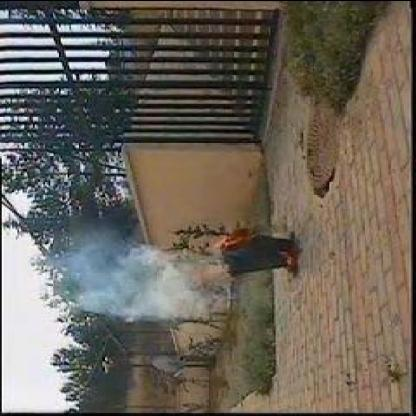-: (69, 236, 174, 322)
